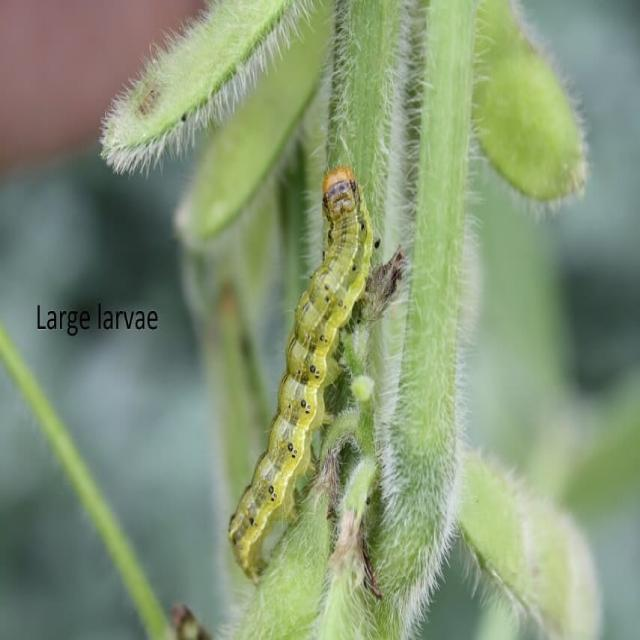Corn-earworm: (237, 160, 387, 585)
